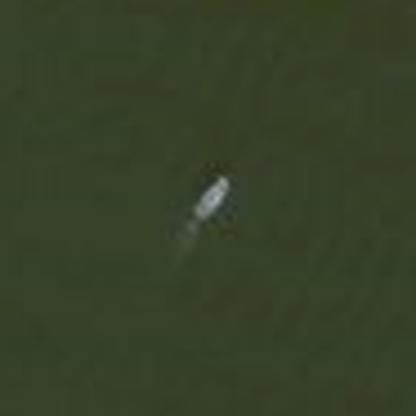ship: (183, 166, 235, 235)
